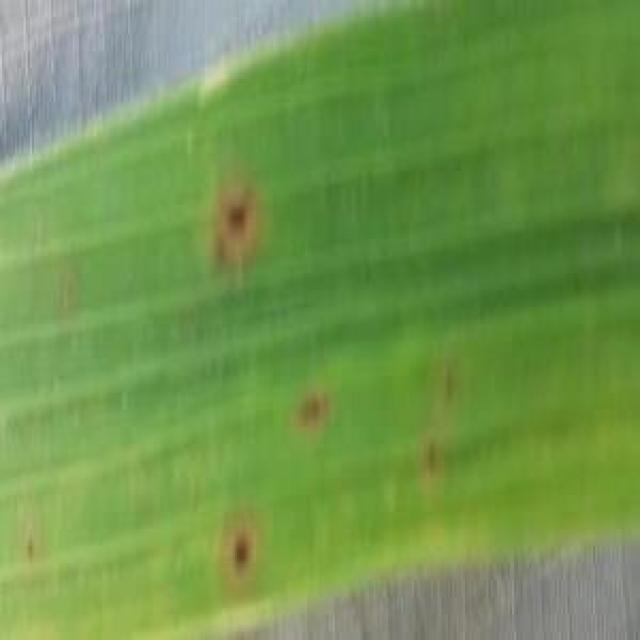brownspots: (207, 179, 264, 265), (203, 516, 273, 585), (292, 393, 342, 433), (418, 435, 444, 478)
